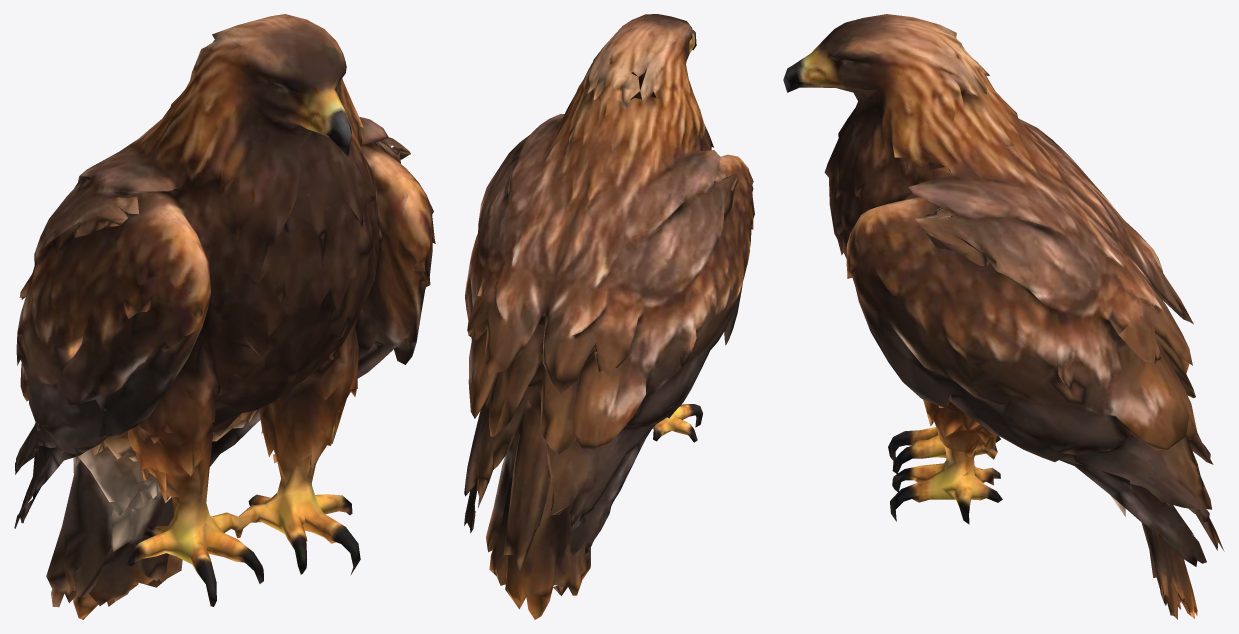
Rendered from eagle.phone.glb.
3 views of the same model, side by side, from view 1: azimuth 30°, elevation 25°; view 2: azimuth 150°, elevation 25°; view 3: azimuth 270°, elevation 25° (orthographic). The views are drawn at different scales.
Parts seen in each view (by area): view 1: eagle.raw; view 2: eagle.raw; view 3: eagle.raw.
Boxes of the visible parts, x1,y1,x2,y2 form: eagle.raw: (14,14,435,619); eagle.raw: (464,14,754,619); eagle.raw: (783,14,1224,619).
Size of the model in its own units: 0.4272 by 0.85 by 0.5666.
1 material, 1 textured.
